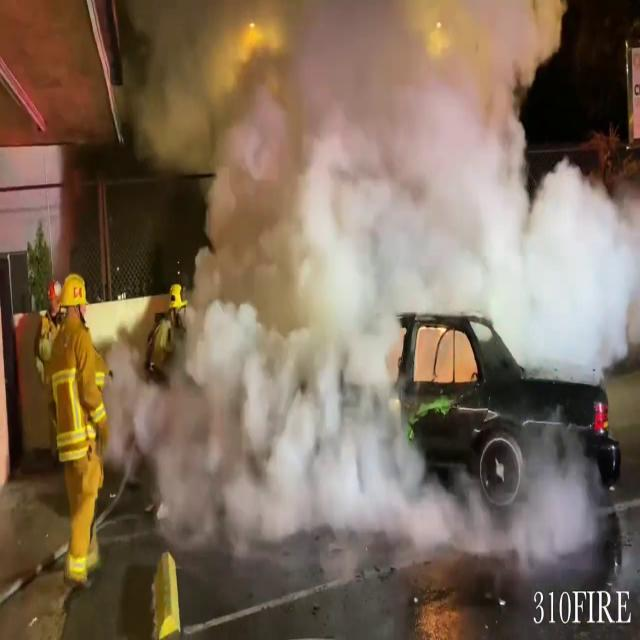Smoke: (98, 1, 636, 554)
